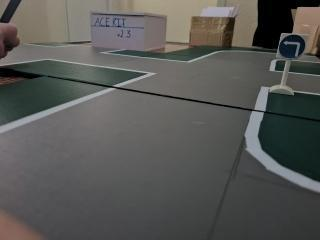left: (273, 28, 312, 64)
